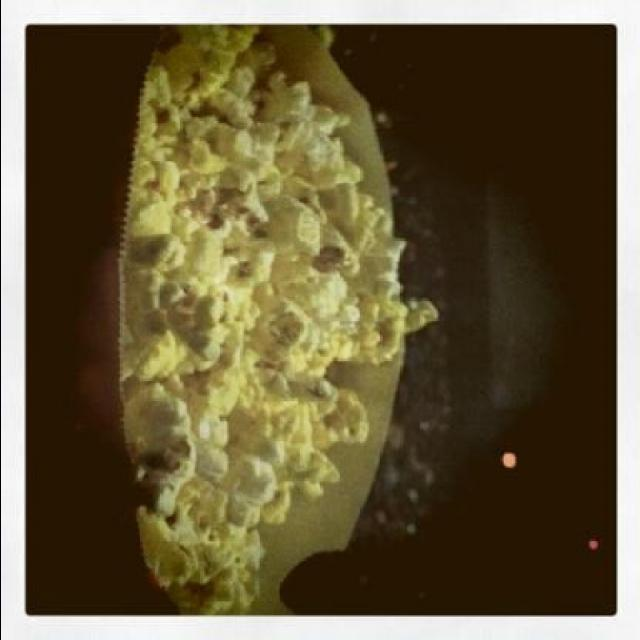Popcorn: (120, 27, 438, 610)
